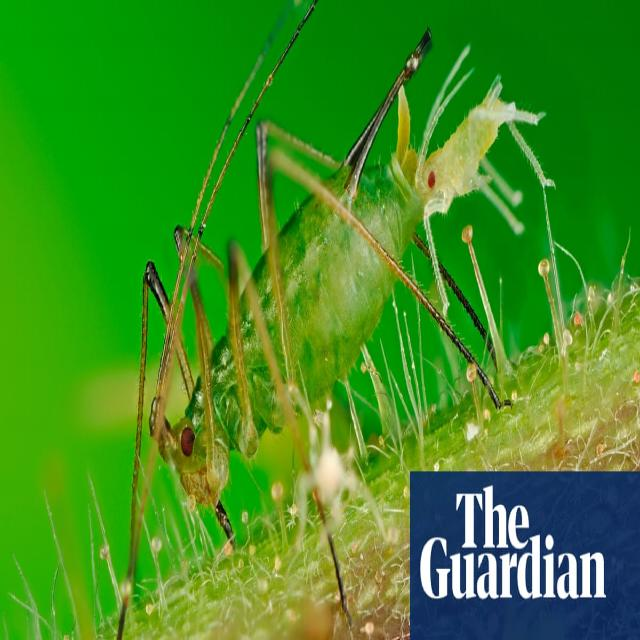Aphid-Grown-: (110, 127, 516, 496)
